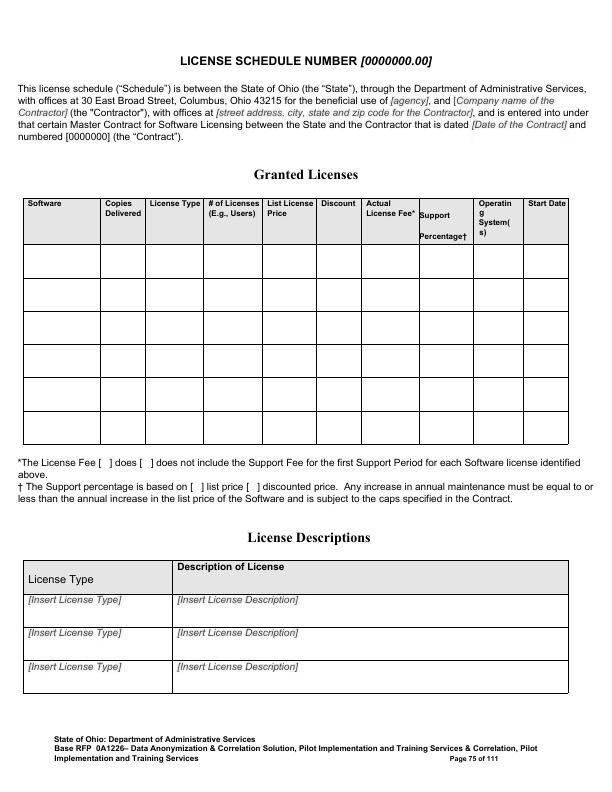table: (19, 193, 574, 448), (18, 554, 576, 700)
text: (12, 48, 595, 153), (15, 453, 599, 508), (50, 728, 545, 771), (243, 527, 374, 549), (247, 163, 367, 182)
